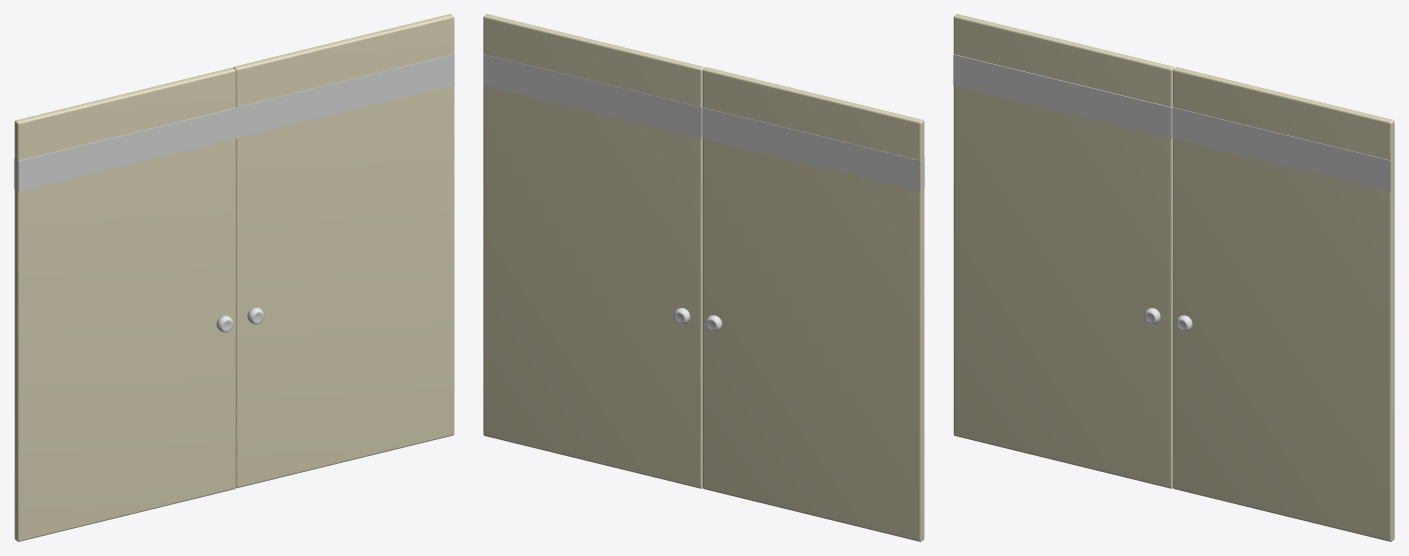
3 views of the same model, side by side, from view 1: azimuth 30°, elevation 25°; view 2: azimuth 150°, elevation 25°; view 3: azimuth 330°, elevation 25° (orthographic).
Visible parts, largest first — view 1: 문20x120철제.006, 문20x120철제.007; view 2: 문20x120철제.006, 문20x120철제.007; view 3: 문20x120철제.007, 문20x120철제.006.
Part boxes in pixels (box(x1,y1,x2,y2)): 문20x120철제.006: box(14, 67, 236, 541); 문20x120철제.007: box(233, 14, 454, 488); 문20x120철제.006: box(702, 67, 924, 541); 문20x120철제.007: box(483, 14, 704, 488); 문20x120철제.007: box(1172, 67, 1394, 541); 문20x120철제.006: box(953, 14, 1174, 488).
Size of the model in its own units: 240 by 220 by 16.63.
